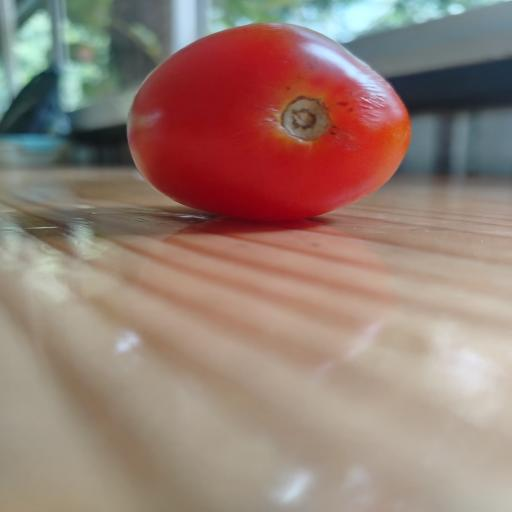overipe: (128, 23, 410, 220)
